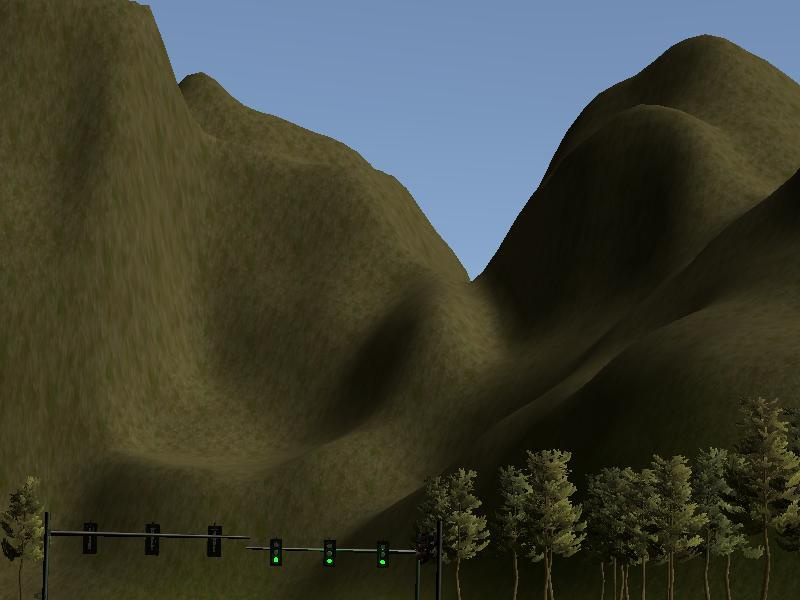Green: (269, 534, 284, 569), (375, 537, 391, 568), (322, 536, 337, 569)
